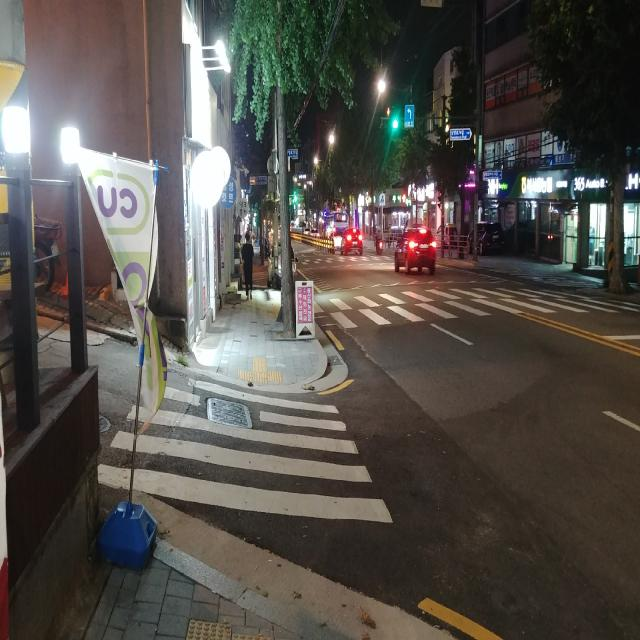횡단보도: (97, 376, 396, 526), (331, 290, 637, 328)
